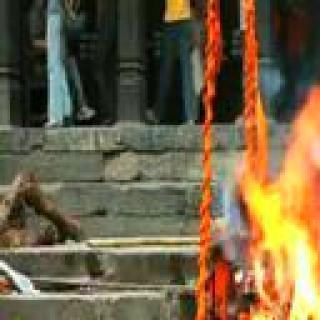fire: (234, 103, 320, 320)
